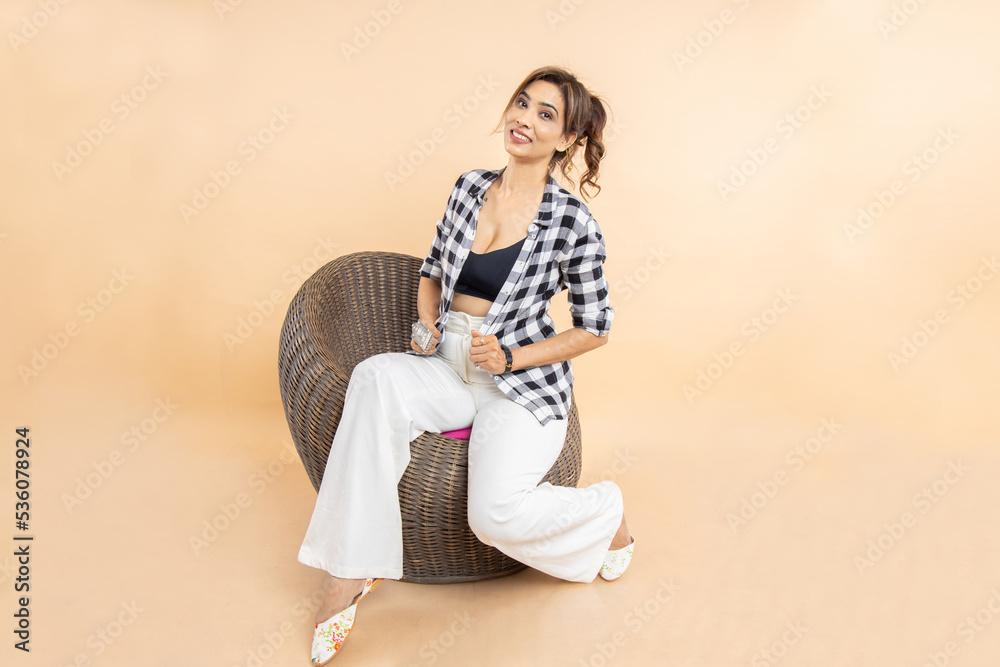Human: (277, 57, 644, 639)
